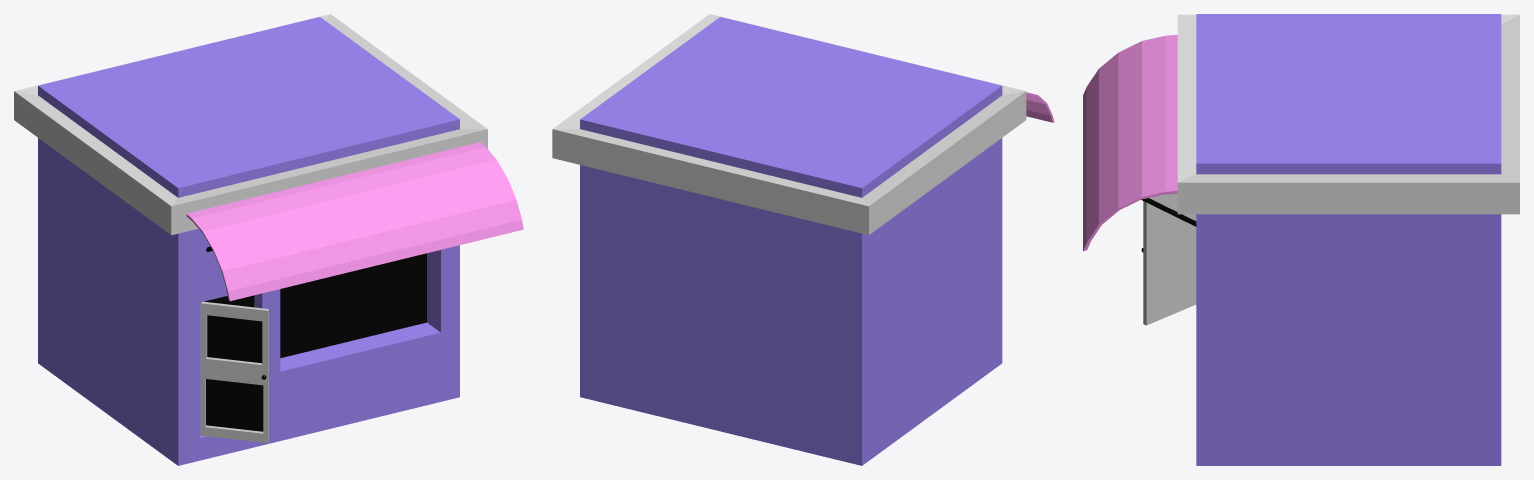
File: Store_purple.fbx
3 views of the same model, side by side, from view 1: azimuth 30°, elevation 25°; view 2: azimuth 150°, elevation 25°; view 3: azimuth 270°, elevation 25° (orthographic). The views are drawn at different scales.
Parts seen in each view (by area): view 1: Cube.005; view 2: Cube.005; view 3: Cube.005.
Boxes of the visible parts, left/top/right/bottom form: Cube.005: left=14, top=14, right=523, bottom=465; Cube.005: left=552, top=14, right=1054, bottom=465; Cube.005: left=1083, top=14, right=1519, bottom=465.
Size of the model in its own units: 261 by 219 by 286.
